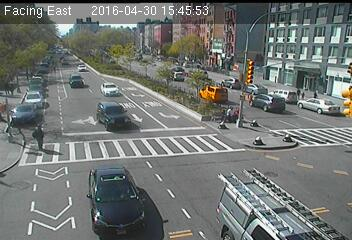neg: (141, 54, 169, 91), (185, 125, 212, 161), (189, 54, 213, 86), (275, 51, 299, 83), (302, 75, 325, 105), (74, 183, 97, 212), (30, 41, 52, 70), (67, 63, 88, 90), (42, 155, 62, 183), (293, 175, 312, 200), (280, 127, 298, 151), (125, 198, 143, 222), (104, 88, 122, 111), (136, 146, 153, 168), (236, 54, 253, 76), (211, 177, 227, 198), (249, 172, 263, 191), (253, 131, 267, 149), (98, 32, 112, 50), (100, 134, 109, 146)
pos: (31, 122, 51, 149), (226, 103, 239, 121)
